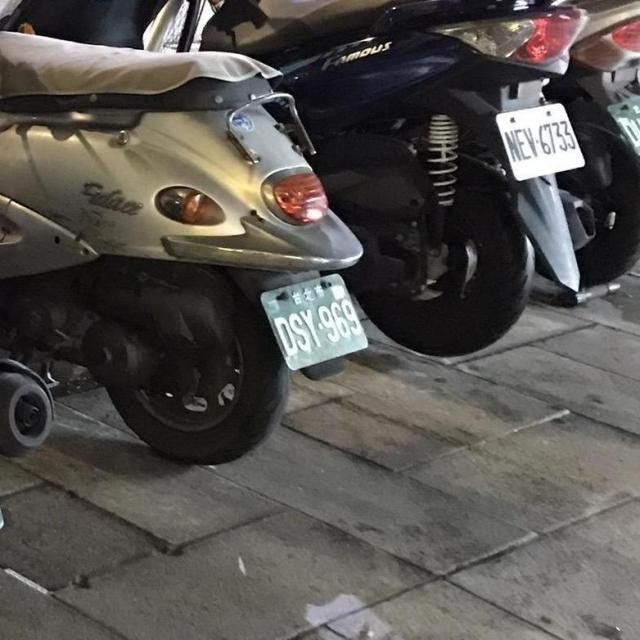GW: (253, 251, 382, 379)
W: (490, 94, 592, 185)
